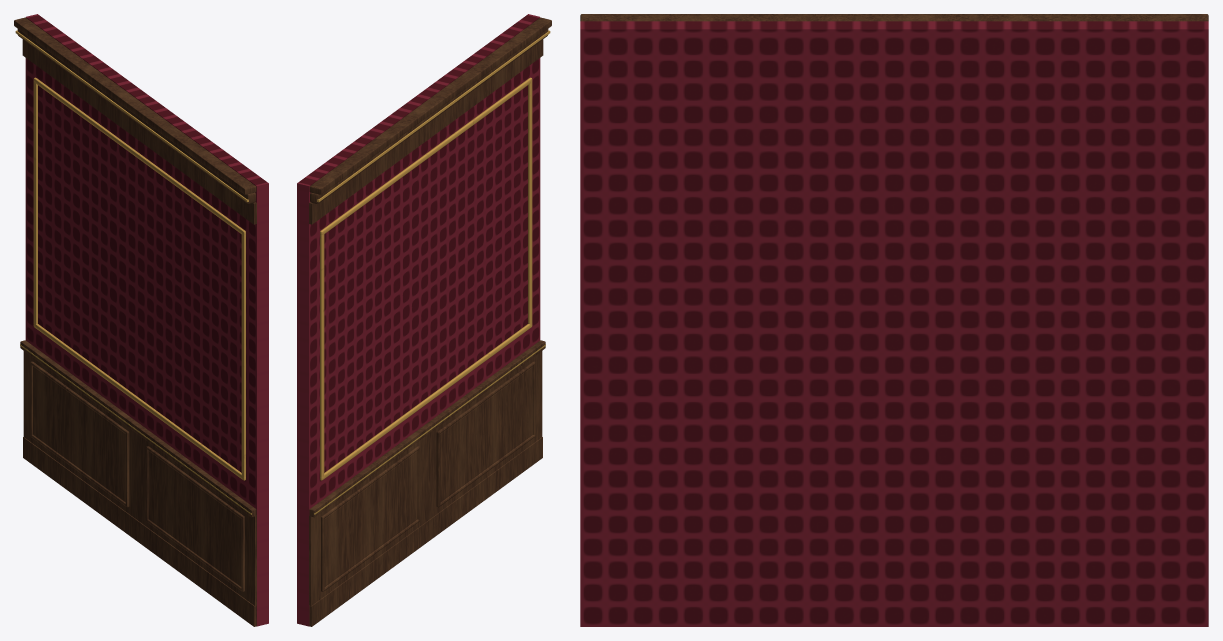
Rendered from SM_CR_Wall.glb.
3 renders of one model, left to right at view 1: azimuth 30°, elevation 25°; view 2: azimuth 150°, elevation 25°; view 3: azimuth 270°, elevation 25°, orthographic. The views are drawn at different scales.
Visible parts, largest first — view 1: SM_CR_Wall; view 2: SM_CR_Wall; view 3: SM_CR_Wall.
Part boxes in pixels (<box>): SM_CR_Wall: <box>14,14,268,626</box>; SM_CR_Wall: <box>297,14,551,626</box>; SM_CR_Wall: <box>580,14,1208,626</box>.
Bounding box in the file's own units: 0.24 × 4.2 × 4.
Materials: 4 (4 with a texture image).
